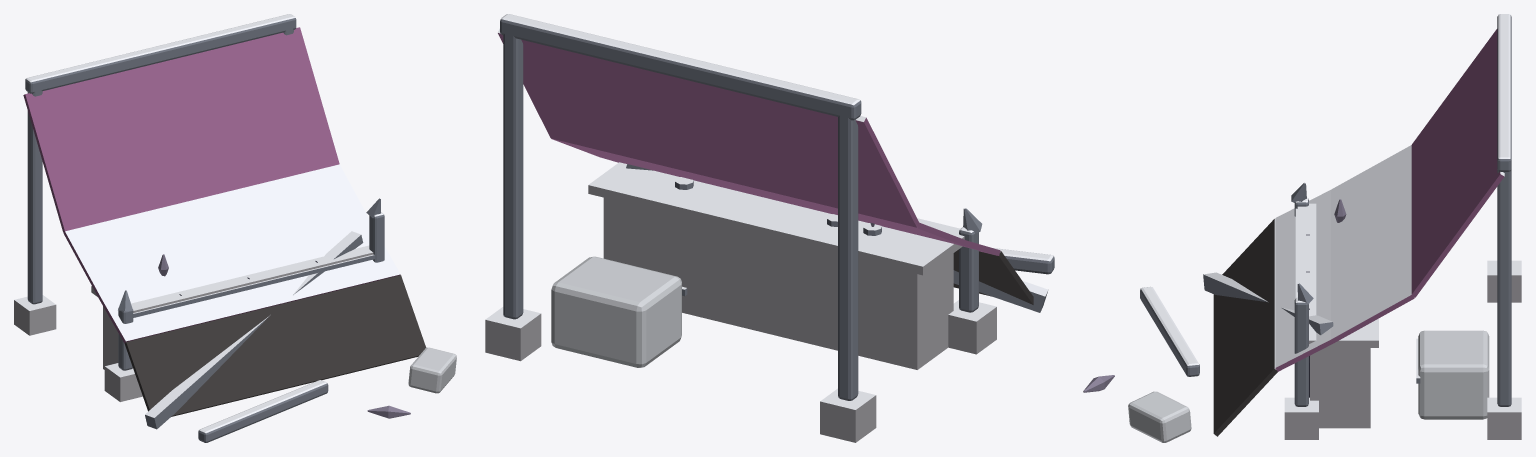
The model's file is PR_Tenda_Destruida_A.fbx.
3 renders of one model, left to right at view 1: azimuth 30°, elevation 25°; view 2: azimuth 150°, elevation 25°; view 3: azimuth 270°, elevation 25°, orthographic. The views are drawn at different scales.
Visible parts, largest first — view 1: PR_Tenda_Destruida_A; view 2: PR_Tenda_Destruida_A; view 3: PR_Tenda_Destruida_A.
Boxes of the visible parts, x1,y1,x2,y2 form: PR_Tenda_Destruida_A: [14, 14, 456, 442]; PR_Tenda_Destruida_A: [485, 14, 1054, 442]; PR_Tenda_Destruida_A: [1083, 14, 1521, 442].
Bounding box in the file's own units: 3.67 × 3.06 × 4.33.
